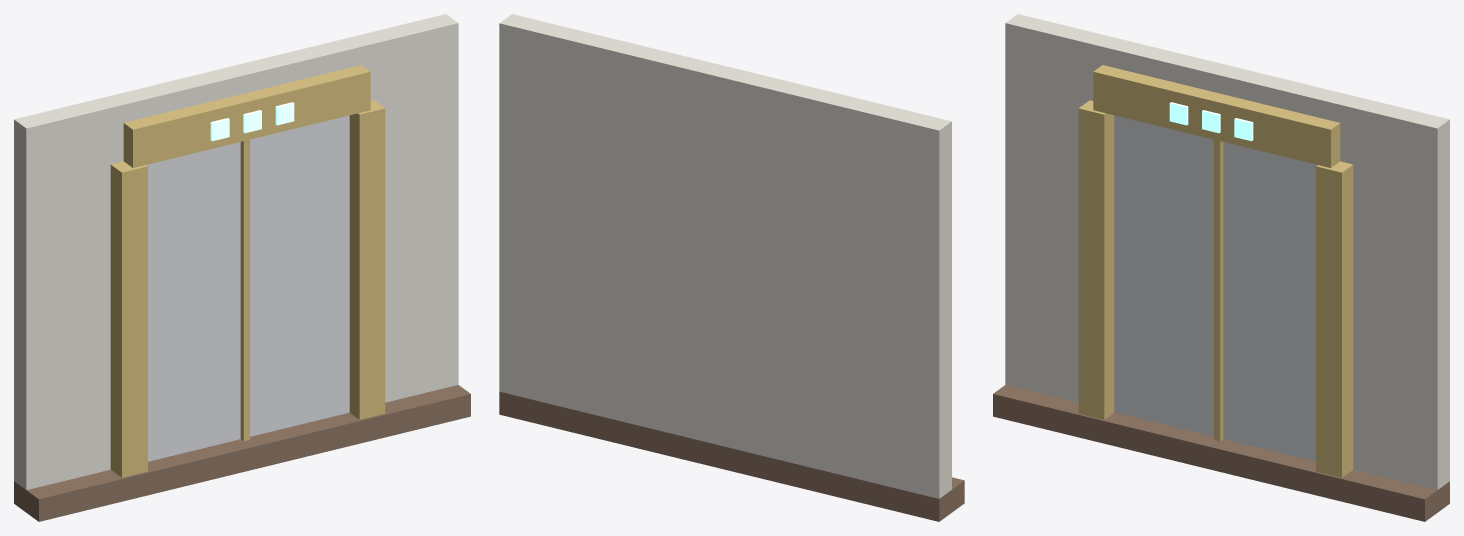
File: casino-floor-and-back-rooms-elevator-lobby-ff473b79__27058.glb
3 views of the same model, side by side, from view 1: azimuth 30°, elevation 25°; view 2: azimuth 150°, elevation 25°; view 3: azimuth 330°, elevation 25° (orthographic).
Visible parts, largest first — view 1: elevator-lobby; view 2: elevator-lobby; view 3: elevator-lobby.
Part boxes in pixels (box(x1,y1,x2,y2)): elevator-lobby: box(14, 14, 470, 521); elevator-lobby: box(499, 14, 964, 521); elevator-lobby: box(993, 14, 1449, 521).
Size of the model in its own units: 4 by 3.4 by 0.4001.
